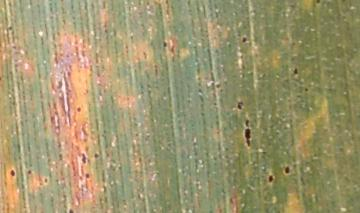tarspot: (242, 127, 254, 147), (79, 151, 88, 168), (282, 164, 291, 177), (140, 50, 150, 61), (41, 175, 50, 184), (240, 35, 248, 45), (236, 100, 243, 111), (243, 118, 251, 127), (73, 105, 82, 112), (292, 66, 298, 76), (228, 195, 234, 205), (7, 24, 14, 32), (214, 82, 222, 89), (10, 168, 16, 177), (68, 207, 77, 213), (303, 86, 310, 93), (128, 33, 135, 40), (10, 44, 17, 51), (290, 40, 297, 47), (162, 41, 168, 49), (93, 151, 99, 159), (26, 169, 33, 175), (84, 173, 91, 179), (267, 174, 272, 182), (314, 1, 322, 6), (260, 149, 267, 154), (218, 88, 225, 92)
